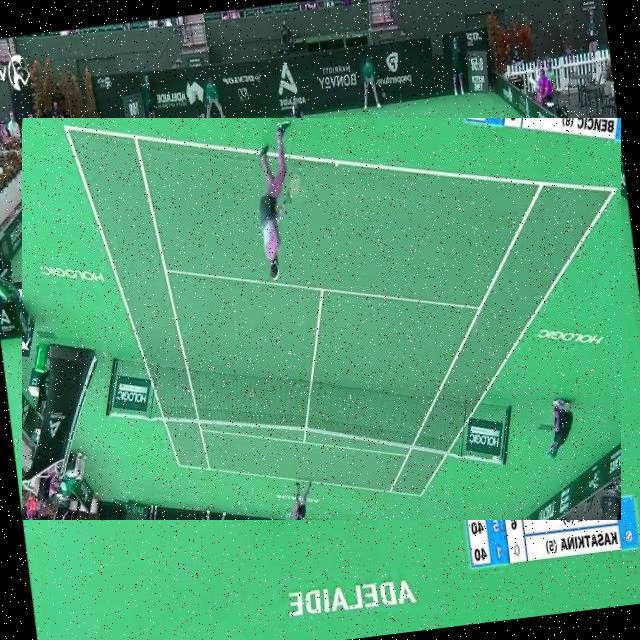court: (22, 118, 621, 520)
net: (103, 172, 514, 281)
player: (242, 354, 310, 524)
